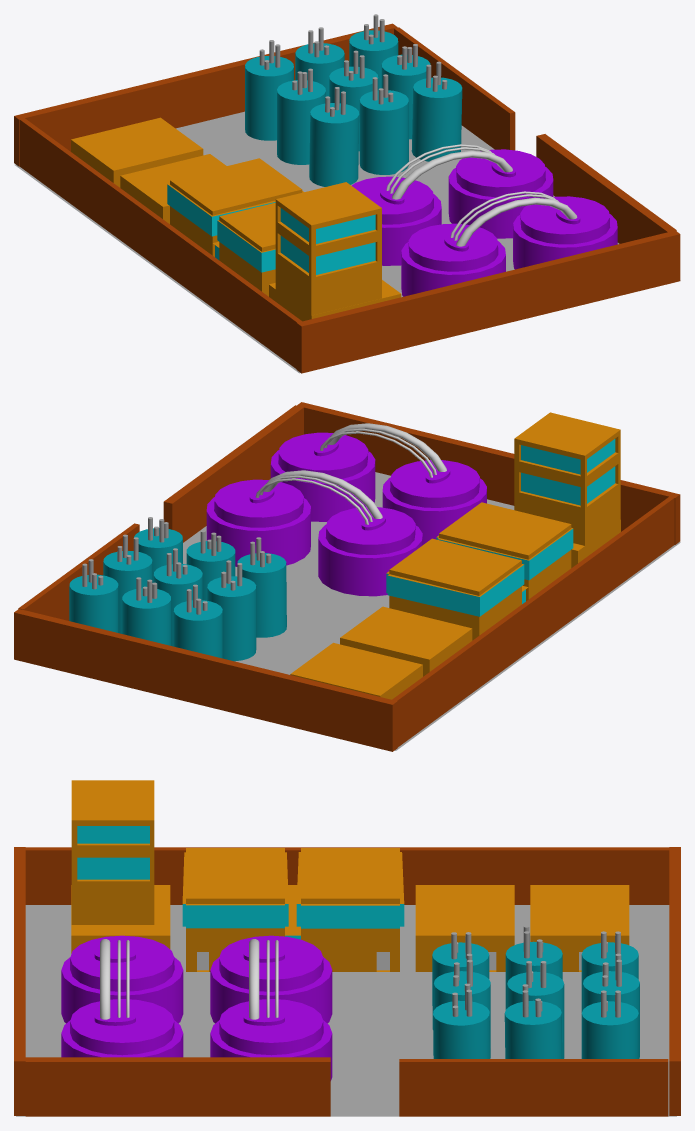
Rendered from waste disposal facility.fbx.
The picture shows the model from 3 angles, top to bottom: view 1: azimuth 30°, elevation 25°; view 2: azimuth 150°, elevation 25°; view 3: azimuth 270°, elevation 25°; orthographic projection. The views are drawn at different scales.
Visible parts, largest first — view 1: polySurface17, polySurface21, polySurface26, pCylinder6, pCylinder20, polySurface27, polySurface18, polySurface13, polySurface22, polySurface19, pCylinder18, pCylinder17 (+9 smaller); view 2: polySurface18, polySurface27, pCylinder20, polySurface21, pCylinder6, polySurface26, polySurface13, polySurface17, polySurface19, polySurface23, polySurface22, pCylinder14 (+9 smaller); view 3: polySurface13, polySurface27, polySurface19, polySurface21, polySurface20, polySurface26, pCylinder20, pCylinder6, polySurface23, polySurface22, pCylinder19, pCylinder16 (+9 smaller).
Boxes of the visible parts, <box> form: polySurface17: <box>296,230,680,373</box>; polySurface21: <box>19,118,301,368</box>; polySurface26: <box>269,182,401,321</box>; pCylinder6: <box>401,191,617,296</box>; pCylinder20: <box>351,144,553,265</box>; polySurface27: <box>167,158,303,296</box>; polySurface18: <box>14,23,397,166</box>; polySurface13: <box>14,111,680,373</box>; polySurface22: <box>71,117,203,187</box>; polySurface19: <box>536,134,676,243</box>; pCylinder18: <box>359,74,408,174</box>; pCylinder17: <box>309,87,359,186</box>; polySurface18: <box>14,609,397,751</box>; polySurface27: <box>386,502,573,640</box>; pCylinder20: <box>206,470,422,596</box>; polySurface21: <box>392,496,674,747</box>; pCylinder6: <box>270,423,486,544</box>; polySurface26: <box>514,412,620,567</box>; polySurface13: <box>183,472,680,750</box>; polySurface17: <box>297,402,680,544</box>; polySurface19: <box>163,405,303,542</box>; polySurface23: <box>340,606,472,676</box>; polySurface22: <box>290,642,422,699</box>; pCylinder14: <box>207,560,256,661</box>; polySurface13: <box>16,905,676,1116</box>; polySurface27: <box>182,848,404,971</box>; polySurface19: <box>25,1057,330,1116</box>; polySurface21: <box>24,847,669,904</box>; polySurface20: <box>399,1059,668,1116</box>; polySurface26: <box>71,780,170,953</box>; pCylinder20: <box>210,935,332,1080</box>; pCylinder6: <box>61,935,183,1057</box>; polySurface23: <box>415,885,514,971</box>; polySurface22: <box>530,885,629,971</box>; pCylinder19: <box>433,983,490,1058</box>; pCylinder16: <box>504,984,562,1058</box>.
Size of the model in its own units: 29.39 by 8.98 by 38.36.
